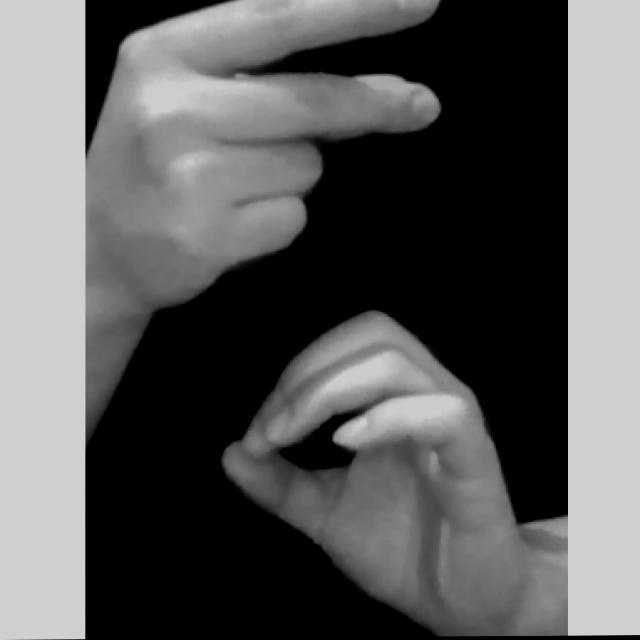O--: (87, 0, 523, 639)
